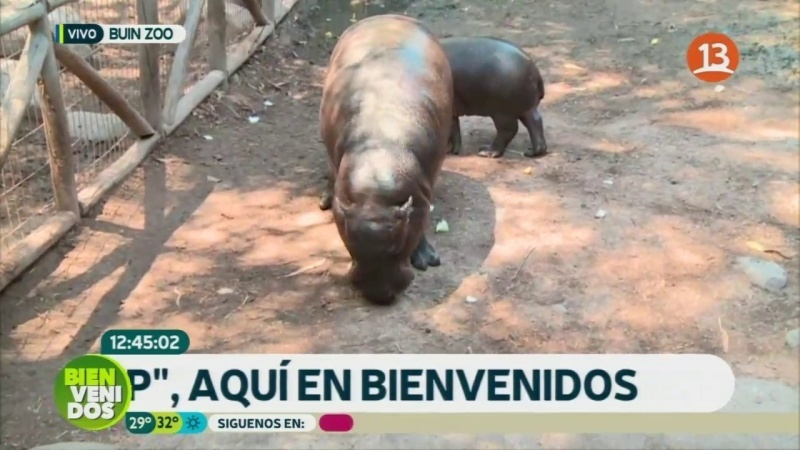hipopotamo: (302, 9, 456, 319), (426, 29, 568, 178)
